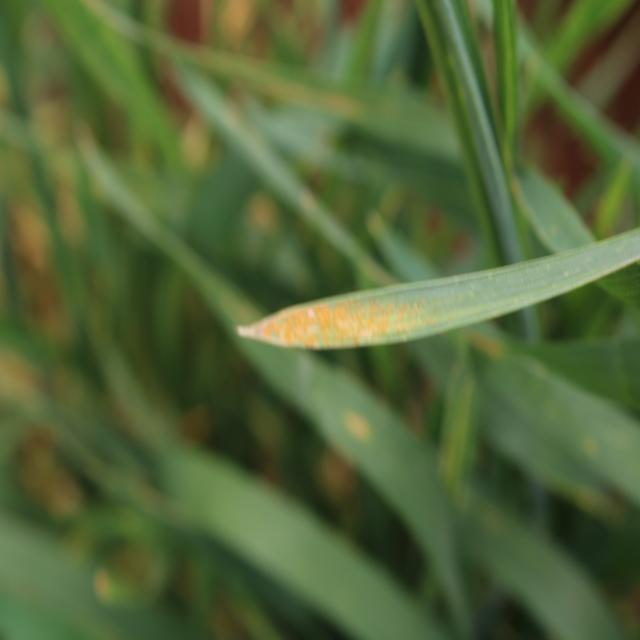Stripe Rust: (338, 283, 441, 346), (278, 300, 336, 348)
